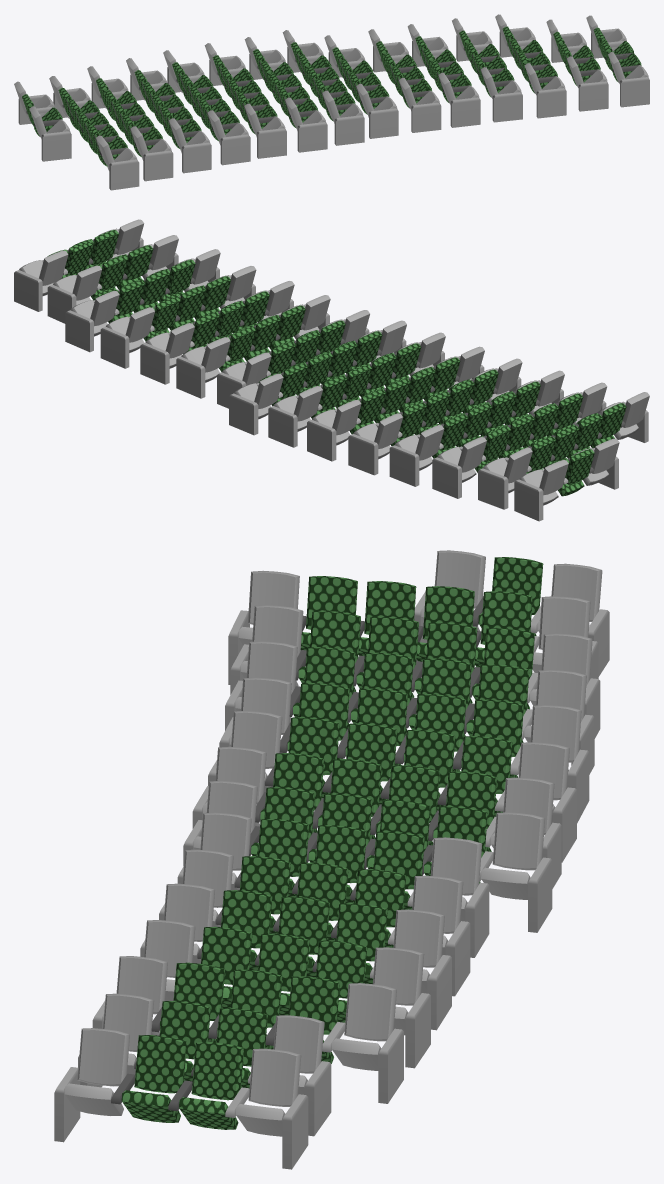
File: m_theater_chair_leftAisle_high_r.fbx
3 views of the same model, one above another, from view 1: azimuth 30°, elevation 25°; view 2: azimuth 150°, elevation 25°; view 3: azimuth 270°, elevation 25° (orthographic). The views are drawn at different scales.
Parts seen in each view (by area): view 1: polySurface1074; view 2: polySurface1074; view 3: polySurface1074.
Part boxes in pixels (left/top/right/bottom): polySurface1074: left=14, top=14, right=649, bottom=190; polySurface1074: left=14, top=219, right=649, bottom=521; polySurface1074: left=54, top=550, right=609, bottom=1169.
Size of the model in its own units: 167 by 13 by 73.51.
